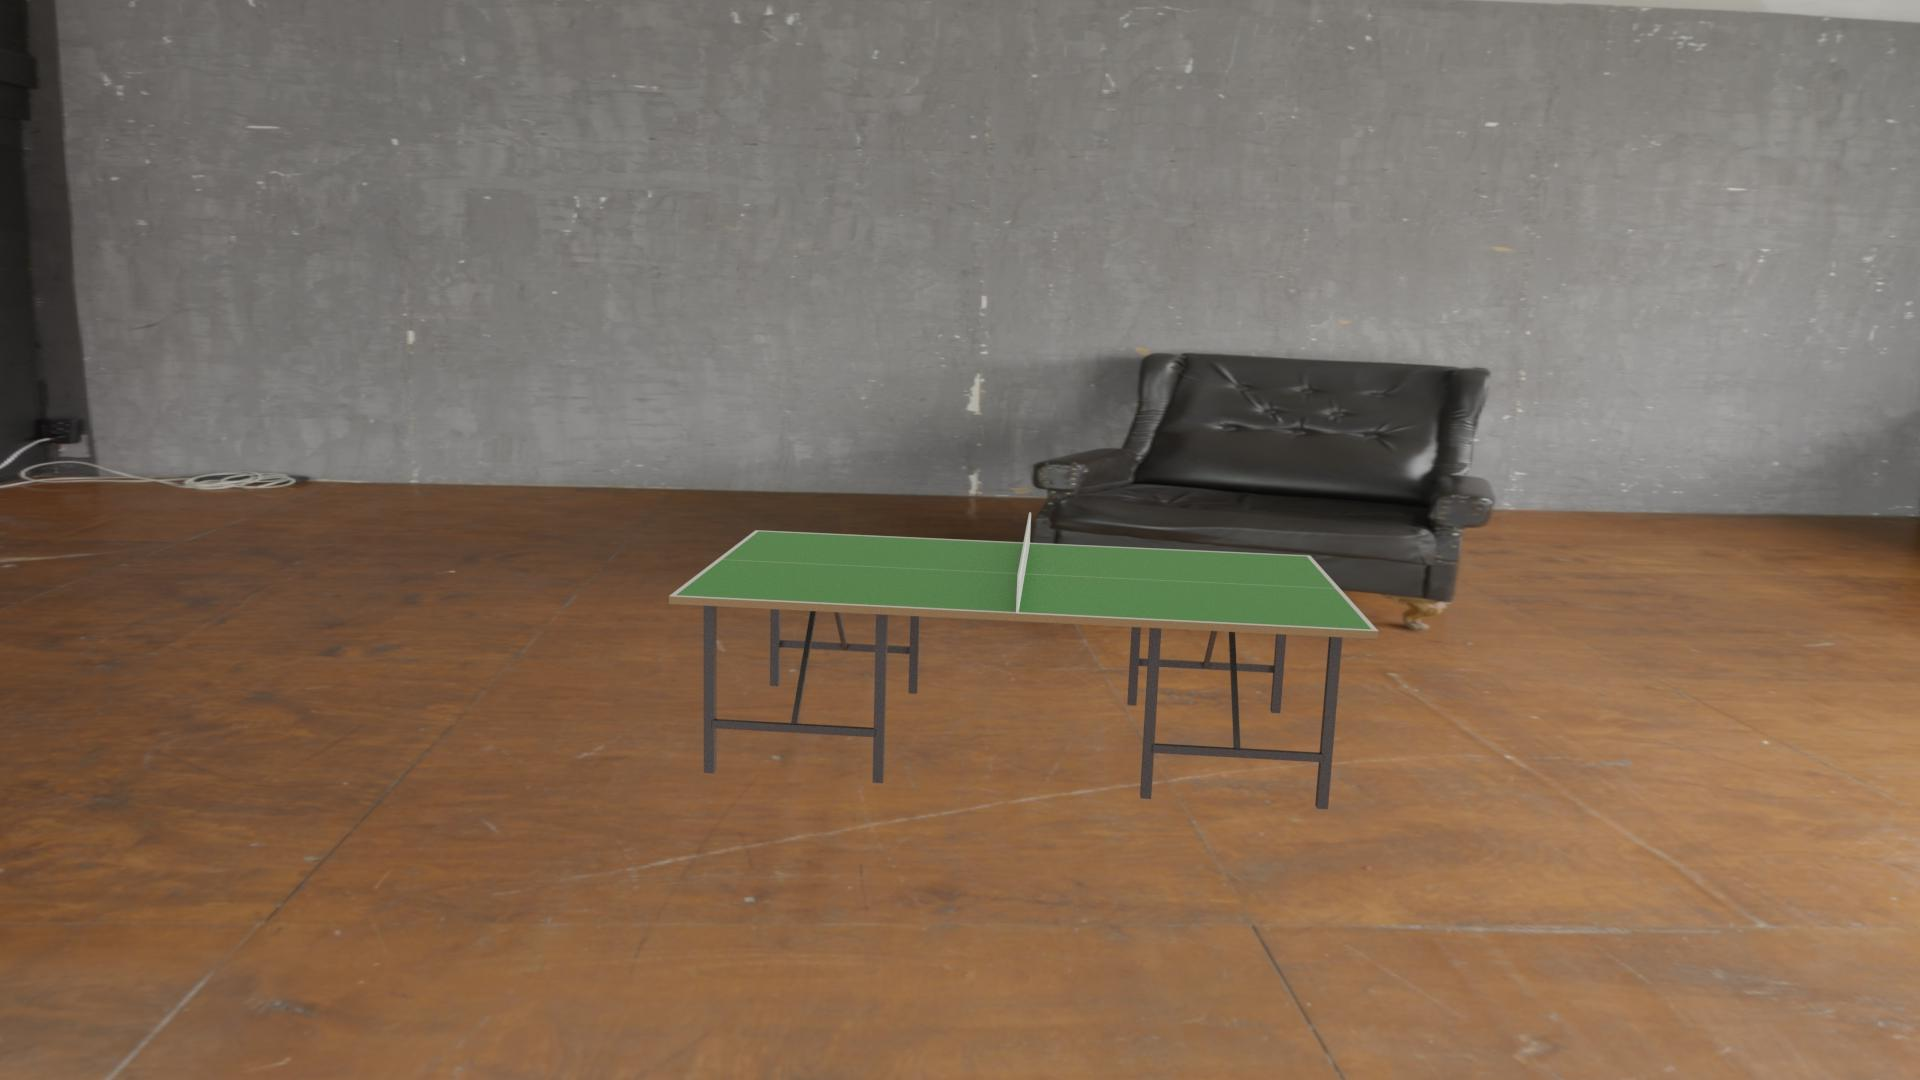table: (675, 531, 1371, 630)
